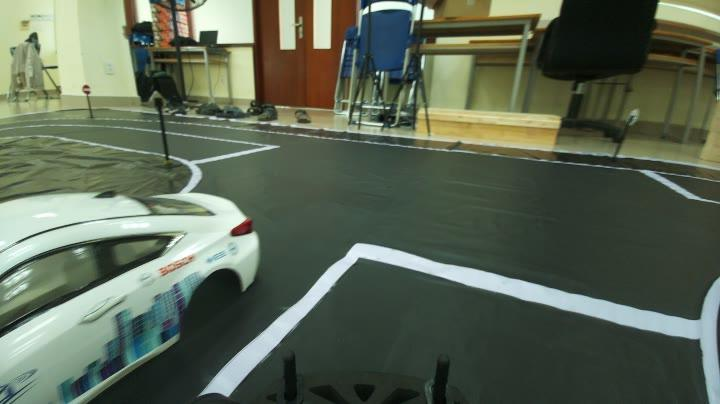car: (1, 182, 267, 392)
